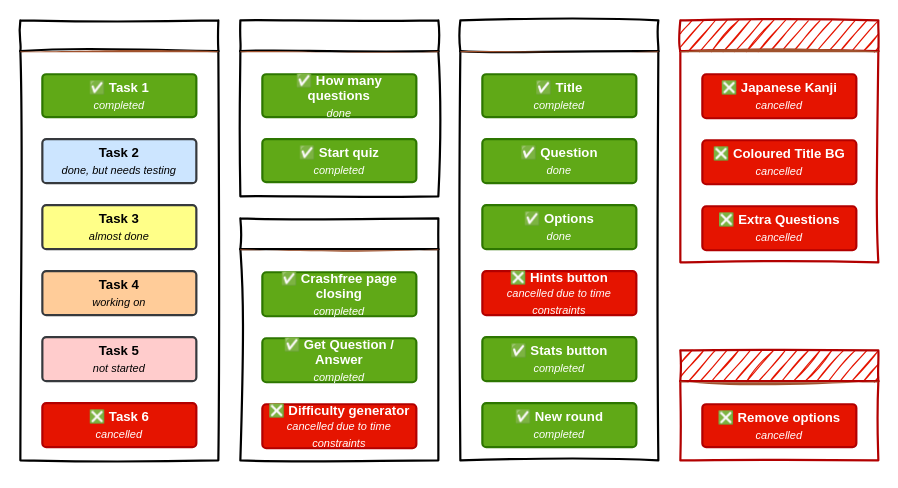
This 898x488 diagram has some shape labels left out. The shapes that lost their labels are listed below. From the top down, each one's box as (x1, y1, x2, y2) in pixels, then its label:
(240, 51, 438, 204): HOW MANY QUESTIONS GUI
(680, 51, 878, 272): NICE TO HAVE
(20, 51, 218, 469): TEMPLATE AND KEY
(460, 51, 658, 469): QUIZ GUI
(240, 249, 438, 470): COMPONENTS
(680, 381, 878, 469): ❎ HINTS
